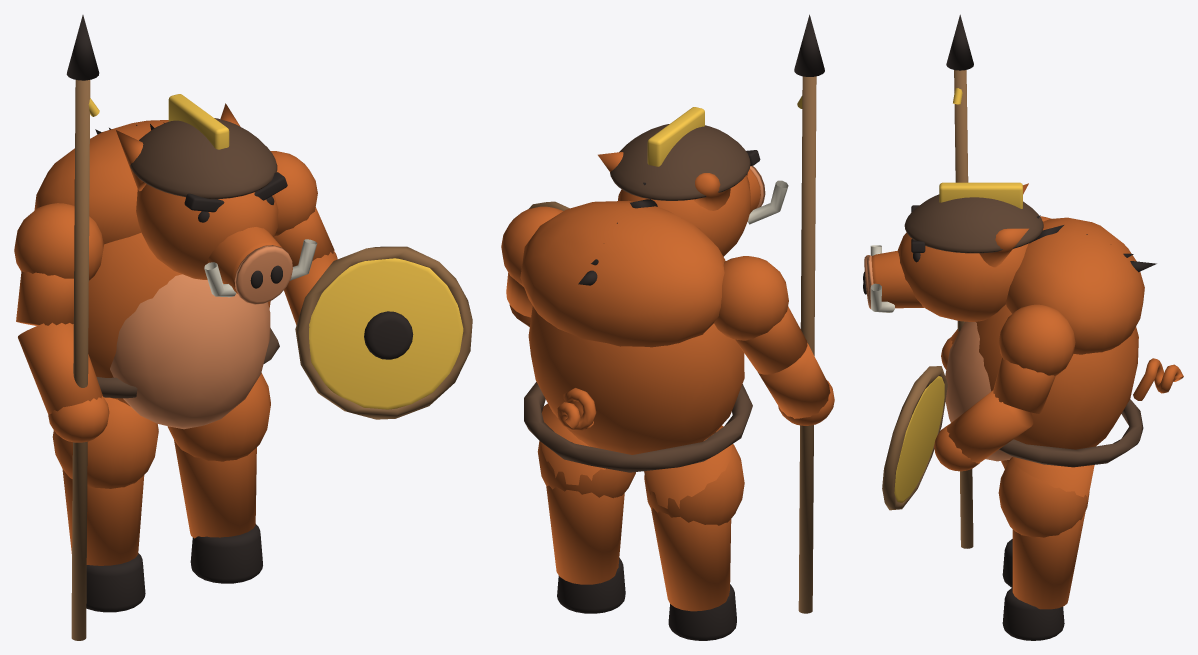
File: Warband.fbx
3 renders of one model, left to right at view 1: azimuth 30°, elevation 25°; view 2: azimuth 150°, elevation 25°; view 3: azimuth 270°, elevation 25°, orthographic. The views are drawn at different scales.
Parts seen in each view (by area): view 1: Warband; view 2: Warband; view 3: Warband.
Part boxes in pixels (left/top/right/bottom): Warband: left=14, top=15, right=472, bottom=640; Warband: left=501, top=14, right=834, bottom=640; Warband: left=863, top=14, right=1183, bottom=640.
Bounding box in the file's own units: 1.06 × 1.7 × 0.9181.
